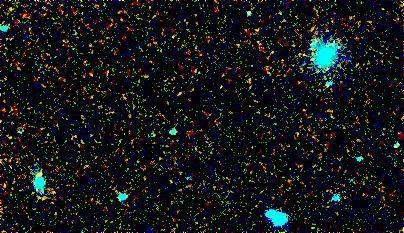star: (235, 67, 265, 97)
